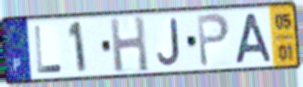1: (67, 19, 89, 76)
A: (234, 11, 275, 66)
H: (107, 14, 151, 74)
J: (155, 16, 183, 68)
L: (32, 24, 65, 75)
P: (195, 12, 231, 70)
